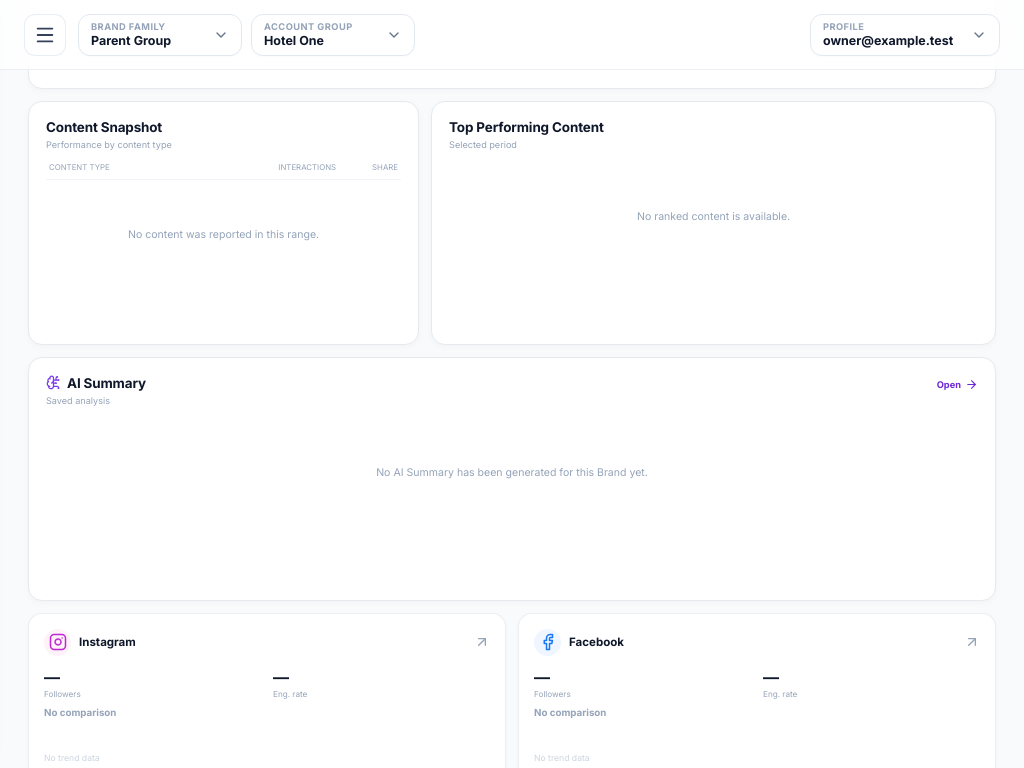
Test case: Phase 7 application shell › shows AI Summary generation to an Accumulate app admin
(page scrolled)
Click the button "Open". click: (957,384)
box: [937, 374, 978, 394]
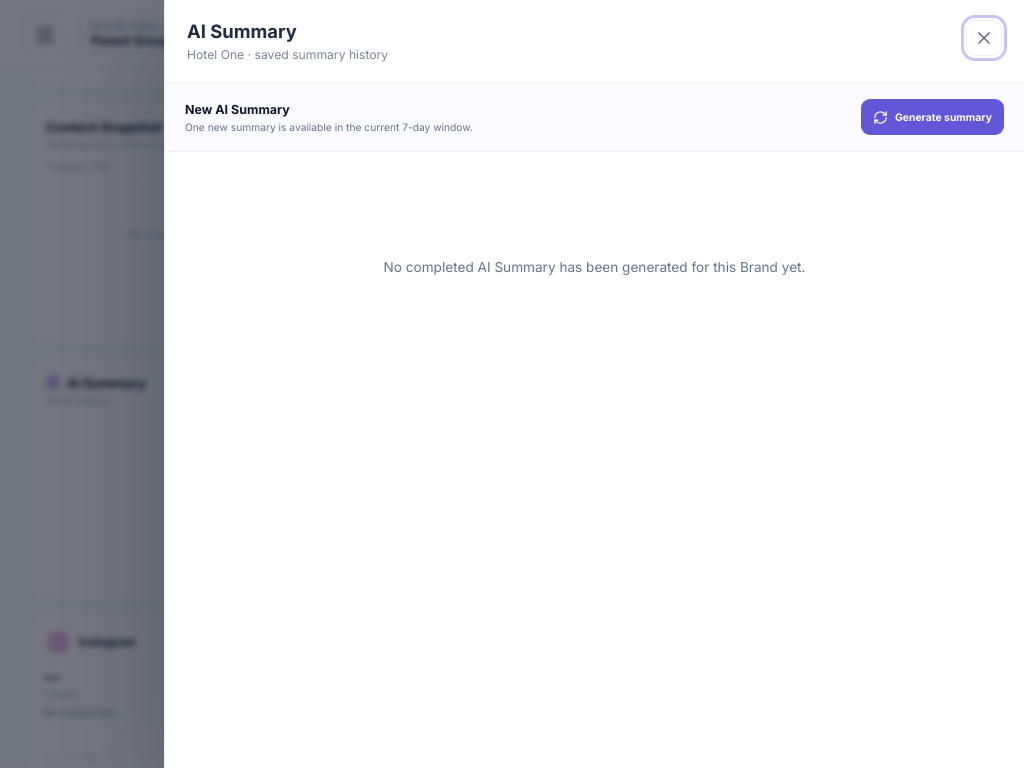
Check: the button "Generate summary" is enabled, box [861, 99, 1004, 135]
